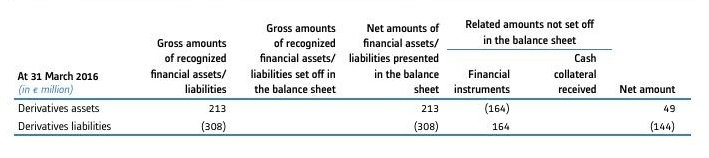table: (0, 0, 709, 158)
